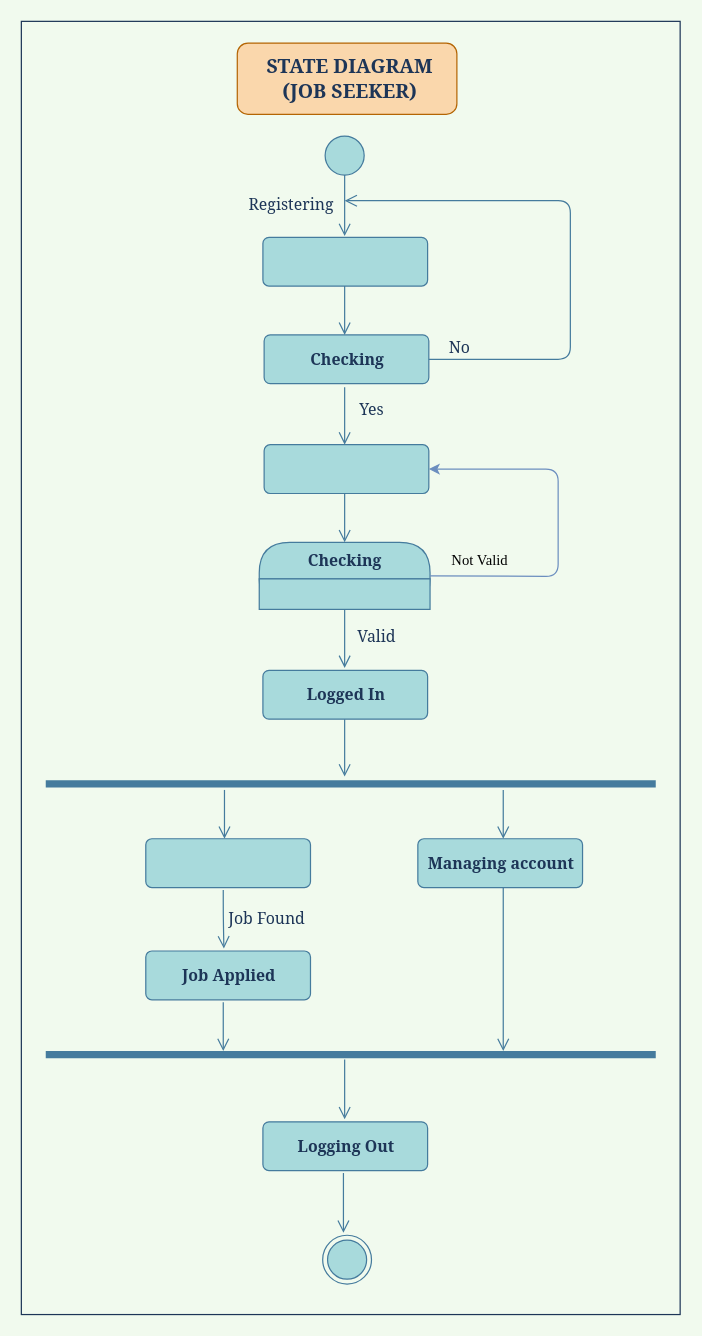
Some shapes in this 702 by 1336 pixel diagram are drawn without their labels. Here are the shapes that lost their labels. From the top down, the centre of each, then its label:
At (345,261): "Registered".
At (346,468): "Logging in".
At (344,593): "Valid/Not Valid".
At (227,863): "Searching Jobs".
